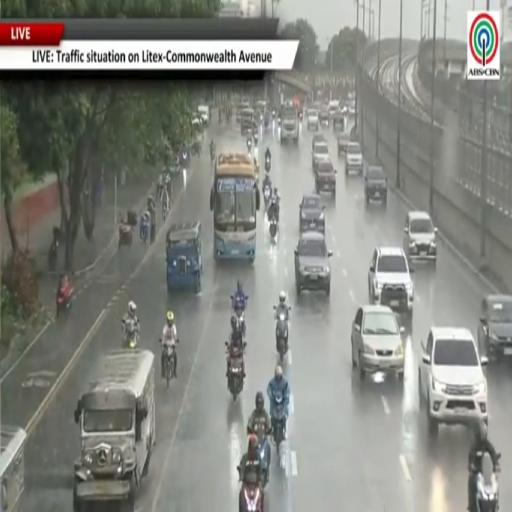bus: (210, 153, 260, 262)
car: (418, 327, 488, 434), (351, 304, 404, 378), (369, 247, 413, 324), (295, 232, 332, 296), (478, 295, 511, 358), (403, 212, 437, 263), (299, 194, 324, 233), (364, 166, 387, 205), (315, 160, 336, 196), (345, 142, 363, 174), (312, 140, 330, 171), (332, 110, 345, 134), (337, 133, 350, 156), (307, 108, 319, 130), (198, 105, 210, 125), (312, 134, 326, 150), (328, 100, 339, 119), (319, 105, 329, 125), (347, 100, 355, 116)
jeepney: (73, 349, 155, 511), (166, 222, 202, 293), (0, 426, 26, 511), (241, 108, 254, 135), (236, 101, 250, 122)
motorcycle: (470, 453, 498, 511), (248, 427, 270, 488), (225, 342, 244, 401), (271, 391, 285, 452), (163, 341, 178, 389), (239, 483, 263, 511), (231, 296, 248, 335), (48, 227, 62, 271), (56, 281, 73, 317), (258, 436, 269, 488), (276, 313, 288, 360), (122, 319, 138, 348), (119, 222, 133, 247), (48, 239, 58, 271), (140, 212, 150, 244), (263, 183, 271, 210), (269, 217, 278, 240), (162, 201, 169, 221), (210, 144, 215, 162), (265, 156, 270, 172), (254, 132, 258, 147), (247, 138, 251, 152), (272, 110, 276, 119)
truck: (280, 103, 299, 143)
